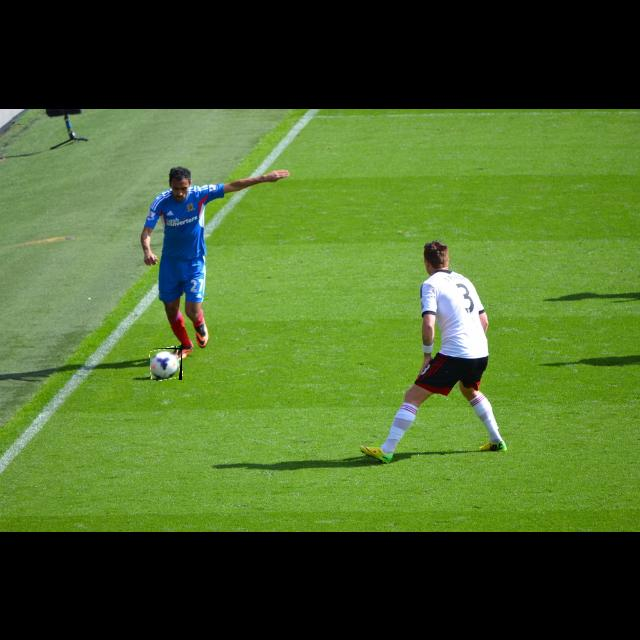Football: (150, 348, 182, 380)
